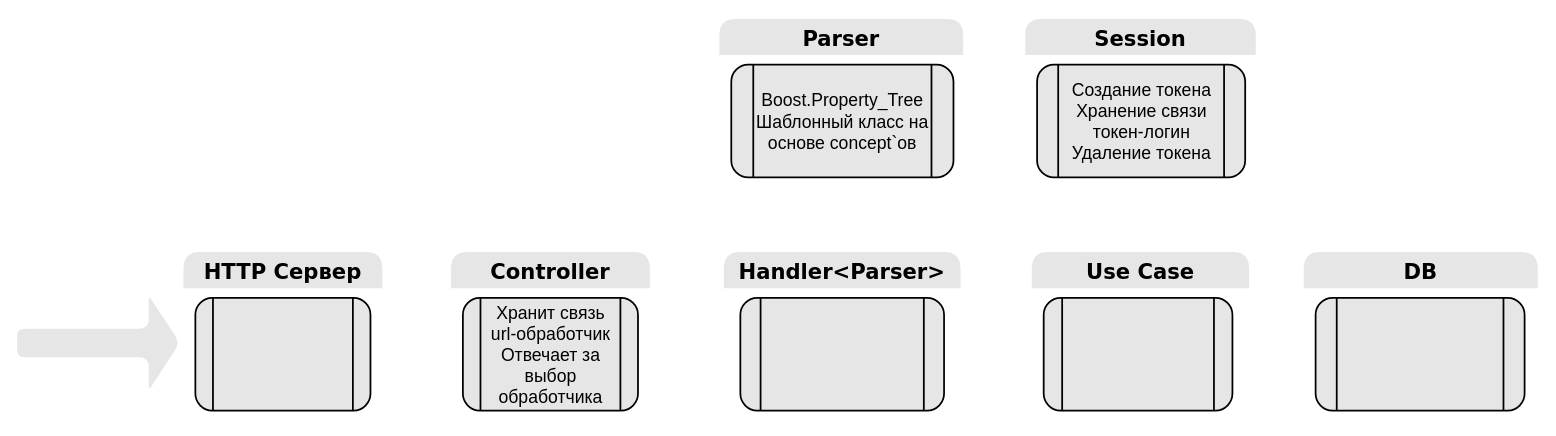
The diagram is 1556 pixels wide and 436 high, and some of its shapes have lost their labels. The shapes that lost their labels are listed below. From the top down, each one's centre as x and y in pixels, then its label:
point 98,342: HTTP
point 282,354: Boost.Beast & Boost.Asio Асинхронный На нескольких потоках
point 842,354: Получение данных из тела запроса Вызов сценария Подготовка тела ответа
point 1137,354: Проверка токена Получение данных Подготовка данных
point 1419,354: libpqxx POOL соединений для корректной работы с потоками
